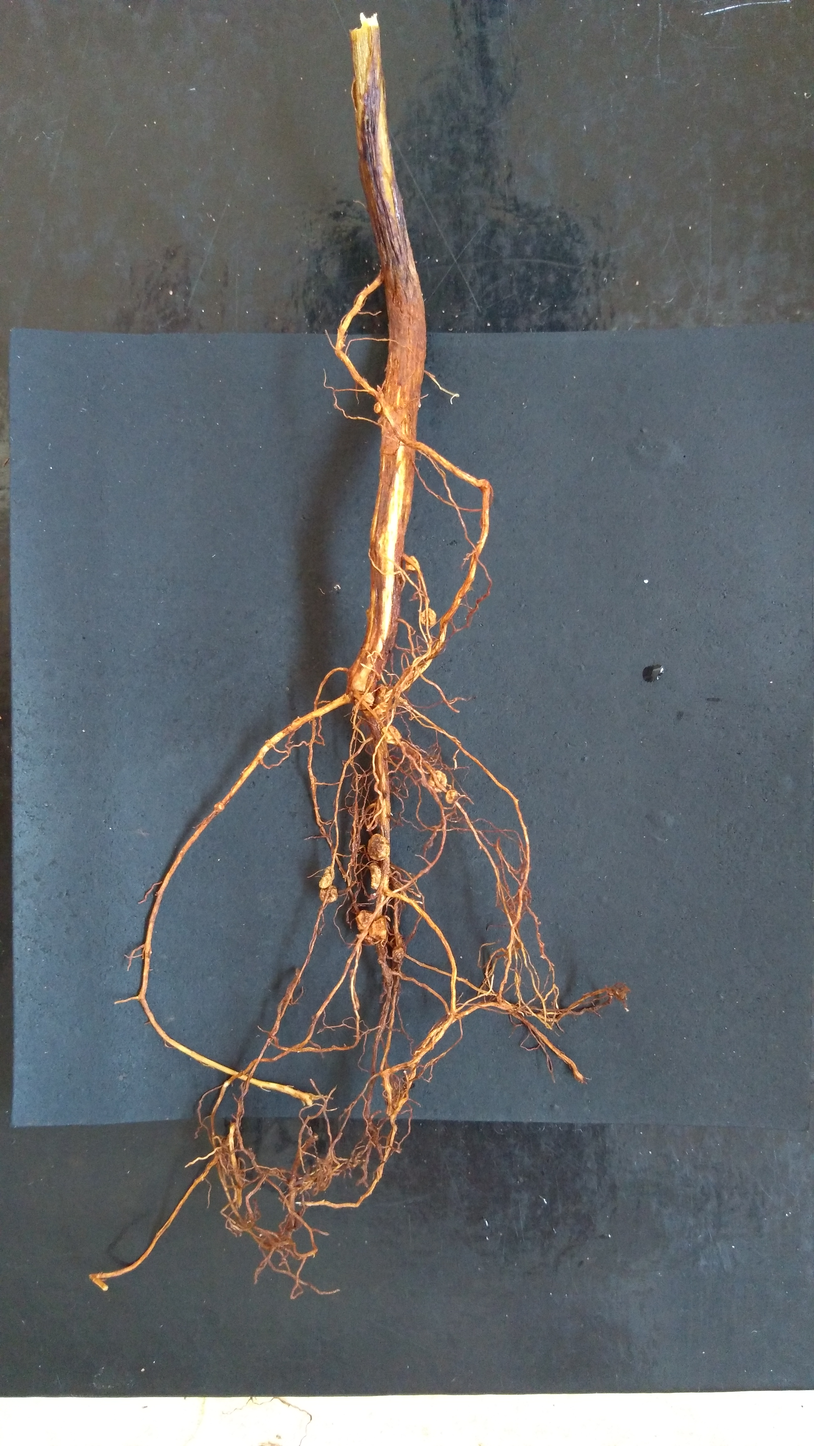nodule: (366, 832, 391, 862), (366, 914, 389, 941), (380, 724, 403, 746), (426, 770, 448, 793), (355, 908, 374, 933), (368, 861, 383, 891), (354, 692, 375, 711), (318, 884, 339, 903), (318, 865, 335, 888), (419, 607, 438, 627), (404, 554, 420, 572), (445, 788, 460, 805), (391, 946, 405, 964), (375, 681, 387, 702), (372, 400, 381, 415)
